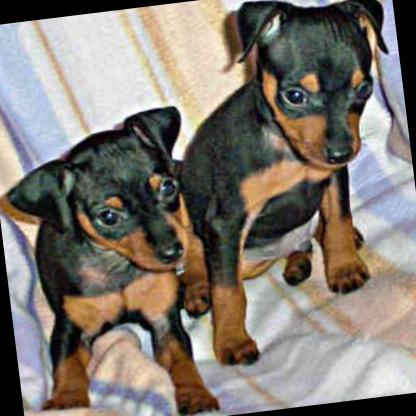miniature_pinscher: (150, 0, 416, 379), (0, 102, 226, 416)
